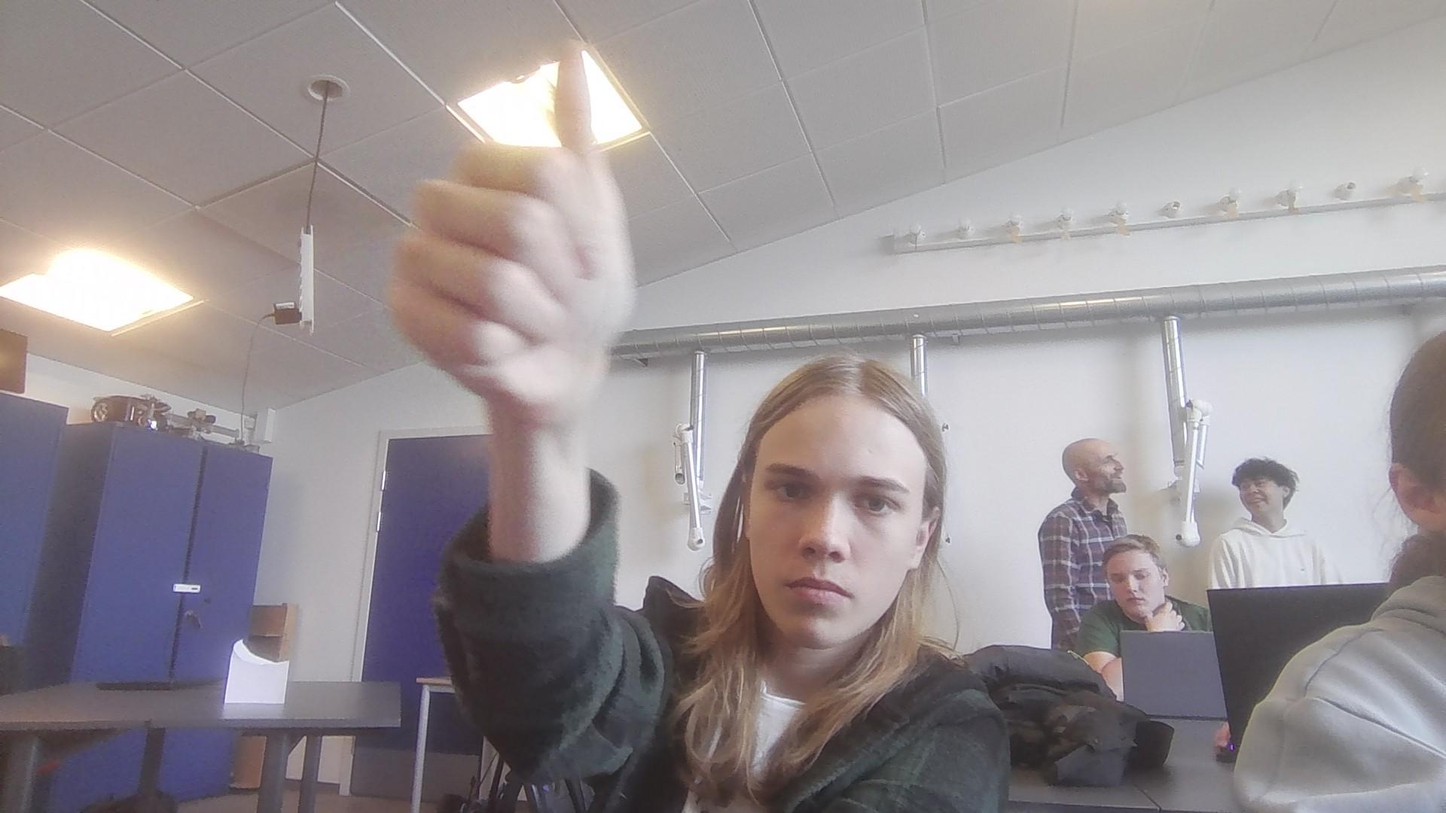thumbs up: (392, 38, 655, 410)
